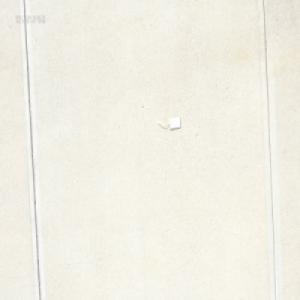LuggageTag: (157, 115, 180, 131)
